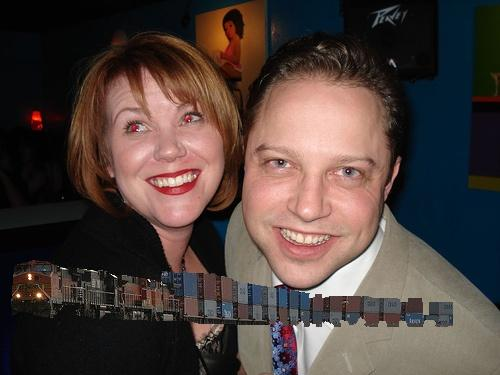tampered: (12, 261, 453, 327)
